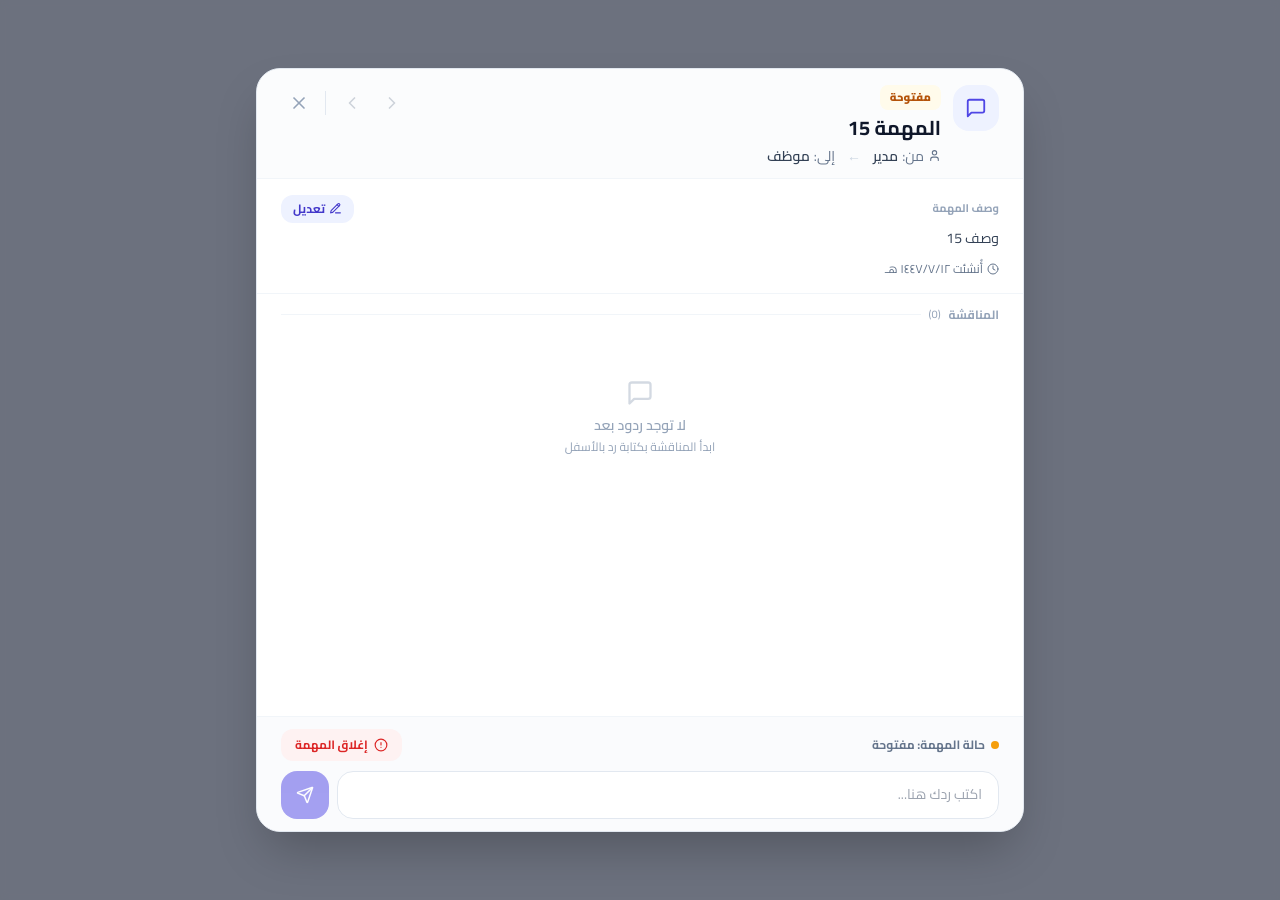
Test: TaskDetailsModal — editing an open task › a task closed meanwhile (409) shows «تم إتمام المهمة بالفعل» and re-reads the task
The width and height of the screenshot is (1280, 900).
Check: the text box labelled "اكتب ردك" is enabled, box x1=337 y1=771 x2=999 y2=819
Click the button "تعديل" at {"x": 318, "y": 209}, box x1=281 y1=195 x2=354 y2=223
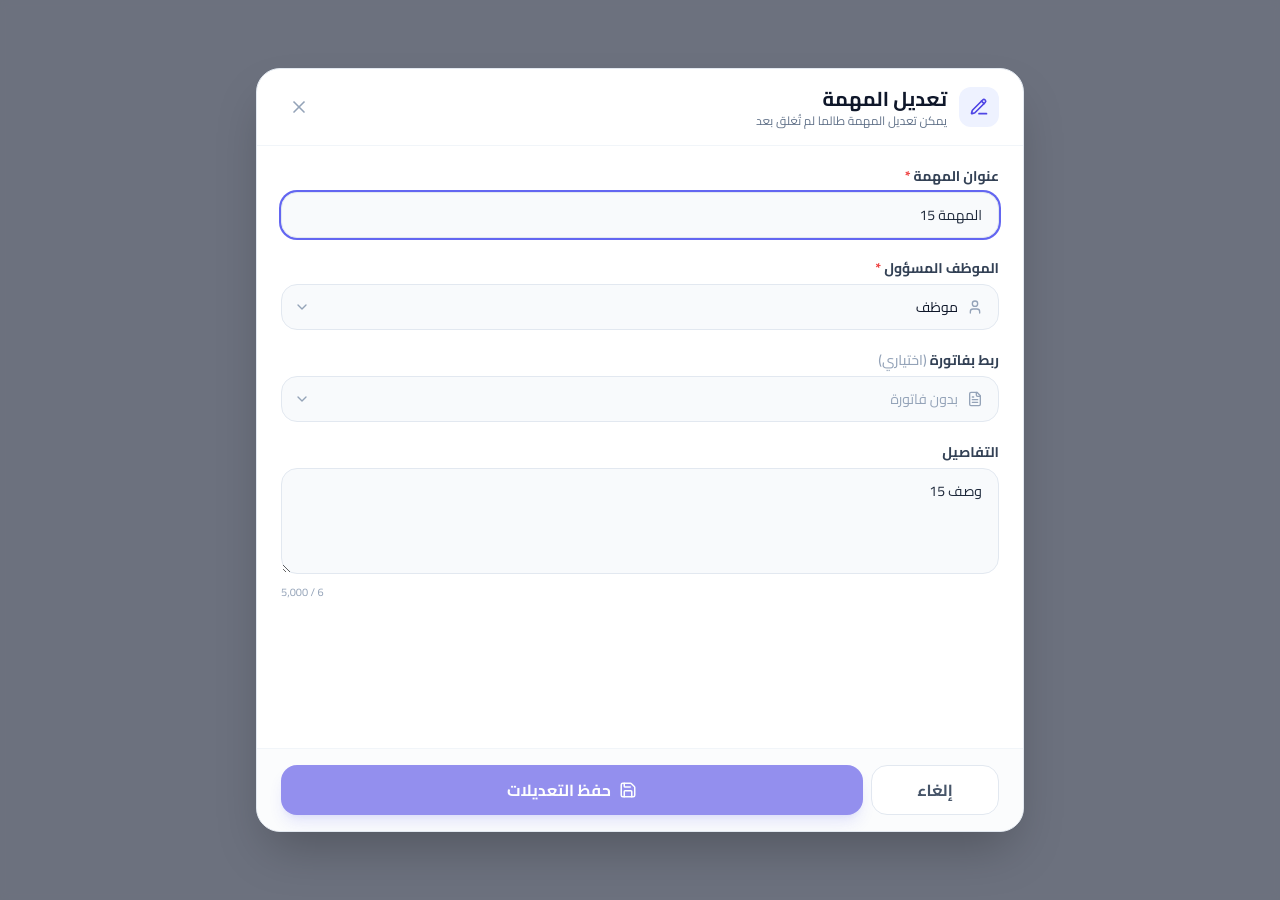
Replace the text in the field labelled "عنوان المهمة *" with "تعديل متأخر" at {"x": 640, "y": 215}, box x1=281 y1=192 x2=999 y2=238
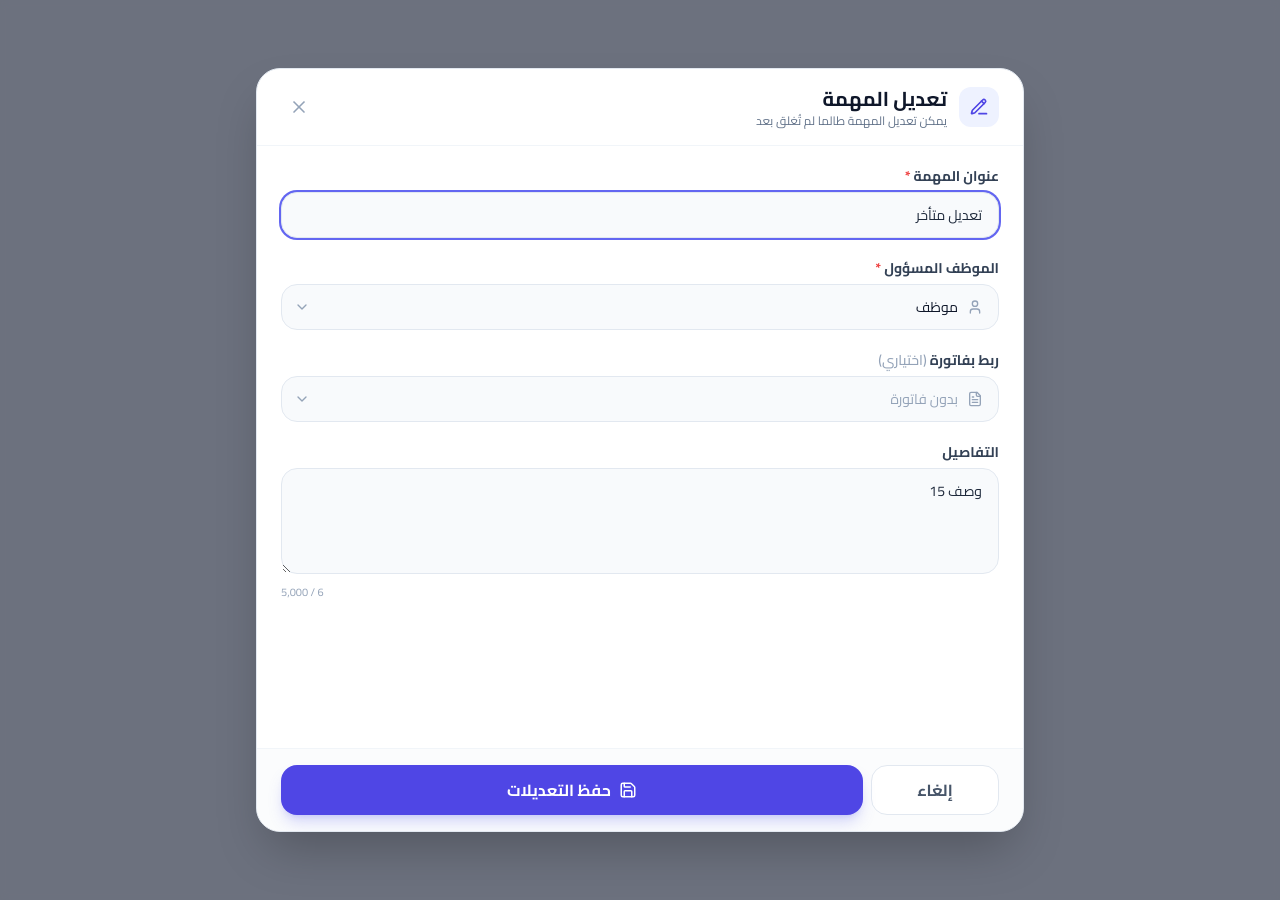
Click the button "حفظ التعديلات" at {"x": 572, "y": 790}, box x1=281 y1=765 x2=863 y2=815
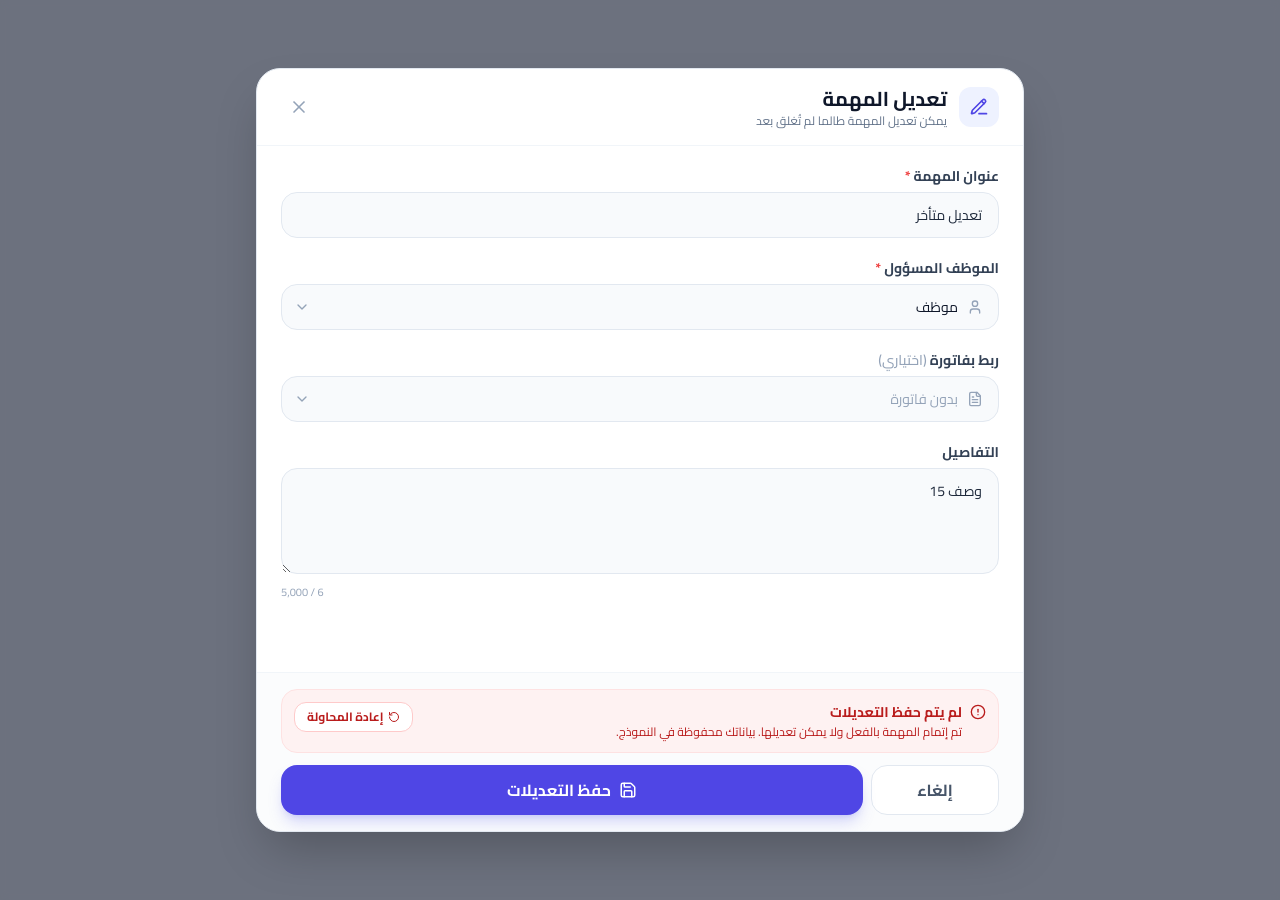
Check: the text "تم إتمام المهمة بالفعل ولا يمكن تعديلها" is shown, box x1=761 y1=720 x2=962 y2=743
